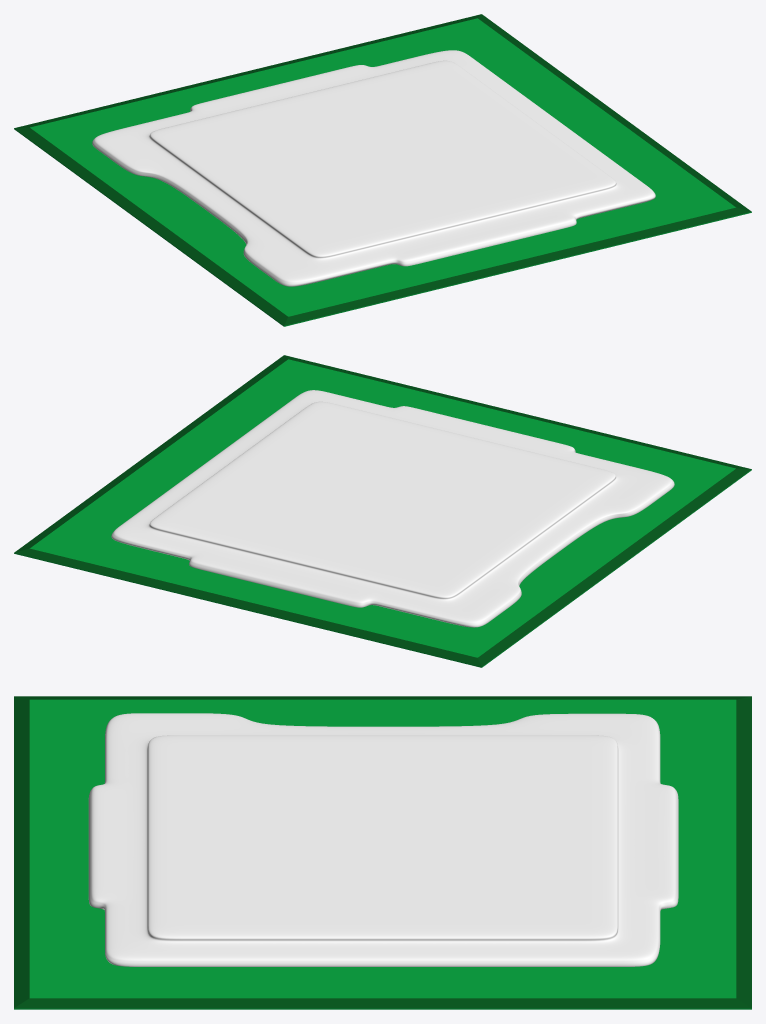
The model's file is cpu.fbx.
3 renders of one model, top to bottom at view 1: azimuth 30°, elevation 25°; view 2: azimuth 150°, elevation 25°; view 3: azimuth 270°, elevation 25°, orthographic. The views are drawn at different scales.
Visible parts, largest first — view 1: Cube.001, Cube; view 2: Cube.001, Cube; view 3: Cube.001, Cube.
Part boxes in pixels (x1=…): Cube.001: x1=92, y1=50, x2=655, y2=286; Cube: x1=14, y1=14, x2=751, y2=326; Cube.001: x1=111, y1=390, x2=674, y2=627; Cube: x1=14, y1=355, x2=751, y2=667; Cube.001: x1=88, y1=713, x2=678, y2=966; Cube: x1=14, y1=696, x2=751, y2=1009.
Bounding box in the file's own units: 3.75 × 0.1055 × 3.75.
